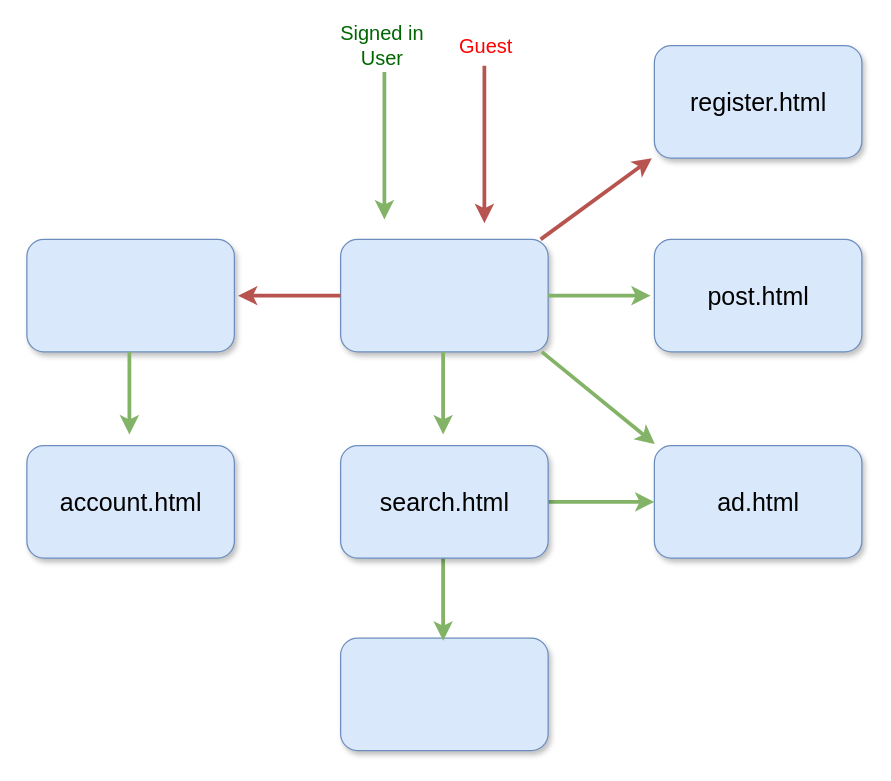
Image size: 891x781. Some labels were removed from this diagram. The shapes that lost their labels are listed below. From the top down, each one's centre as x and y in pixels, then its label:
At (x=131, y=297): "sign-in.html".
At (x=445, y=297): "index.html".
At (x=445, y=695): "my-ads.html".
